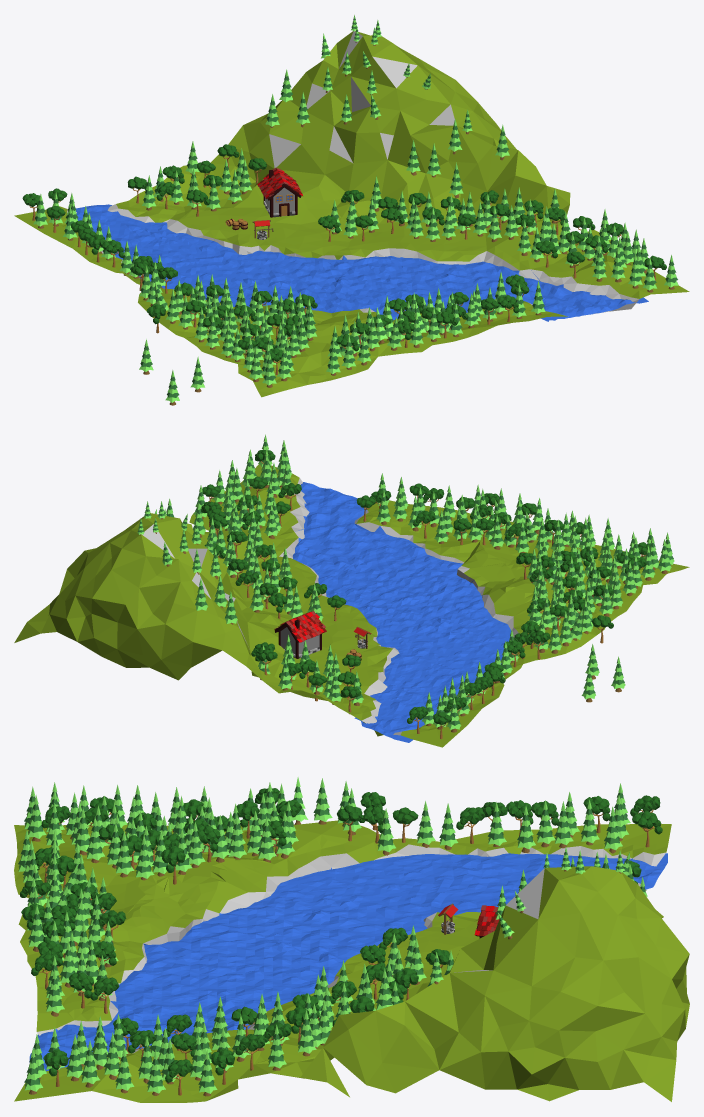
File: forest.gltf
3 renders of one model, top to bottom at view 1: azimuth 30°, elevation 25°; view 2: azimuth 150°, elevation 25°; view 3: azimuth 270°, elevation 25°, orthographic. The views are drawn at different scales.
Parts seen in each view (by area): view 1: Ground, Lake, House; view 2: Ground, Lake, House; view 3: Ground, Lake, House, tree.009.
Boxes of the visible parts, x1,y1,x2,y2 form: Ground: (14,31,689,397); Lake: (75,204,648,321); House: (257,167,302,217); Ground: (14,464,689,747); Lake: (292,482,511,742); House: (274,611,326,658); Ground: (14,820,689,1102); Lake: (29,853,667,1071); House: (474,905,499,938); tree.009: (632,810,662,847).
Size of the model in its own units: 9.75 by 4.29 by 9.65.
